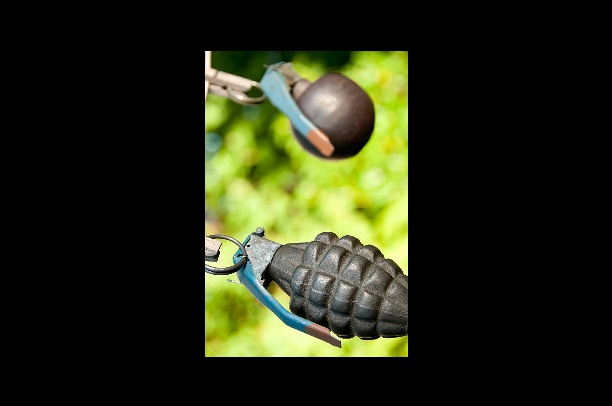e1: (206, 217, 409, 347), (228, 60, 376, 160)
